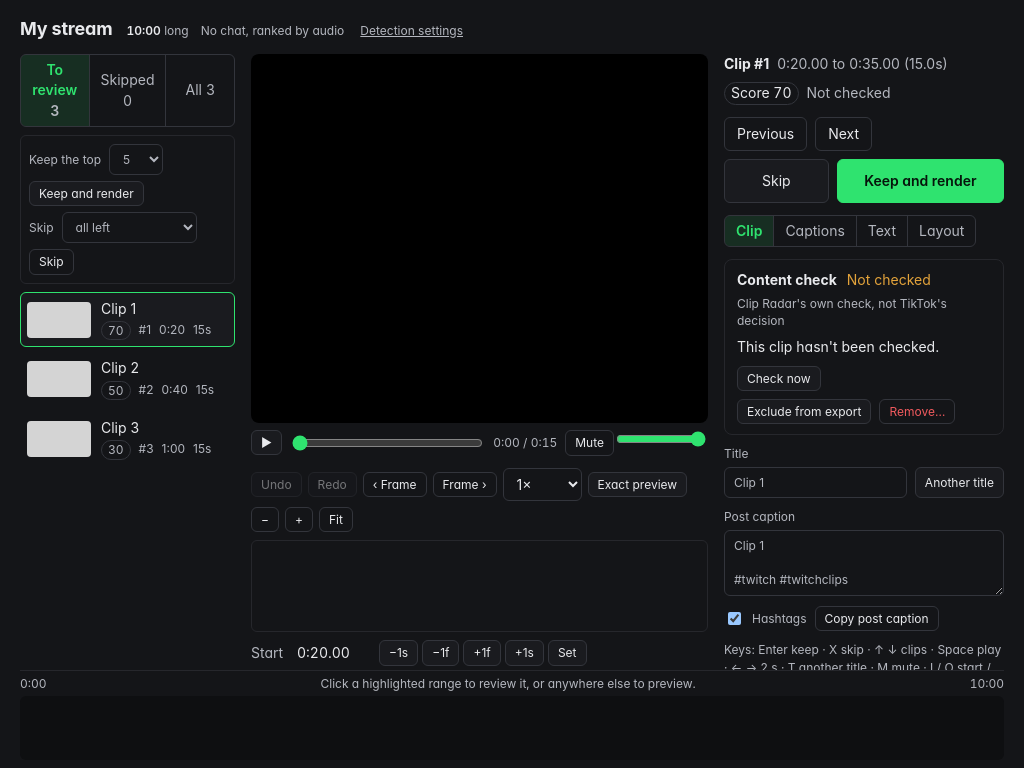
it: Review › re-ranking with other detection settings keeps what you did to clips still suggested
This screenshot has width=1024, height=768.
Replace the text in the field with test id "rv-title-input" with "Mine": (815, 482) top-left (724, 467), bottom-right (907, 498)
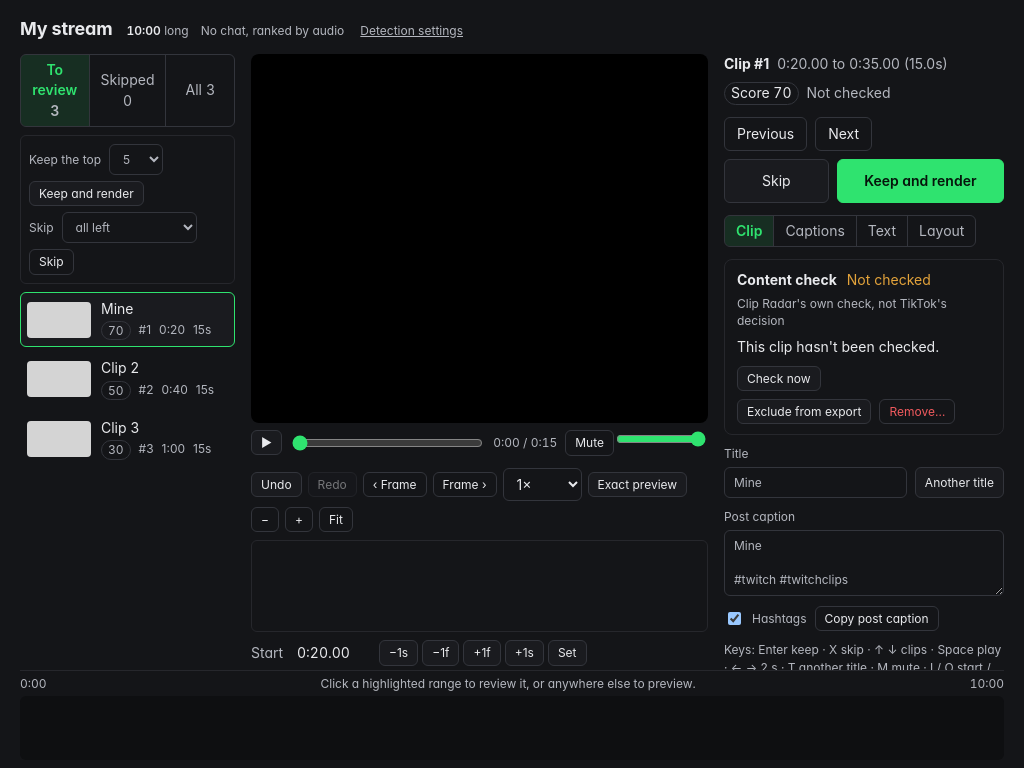
Click the button with test id "rv-detect-open": (412, 31) top-left (356, 22), bottom-right (467, 39)
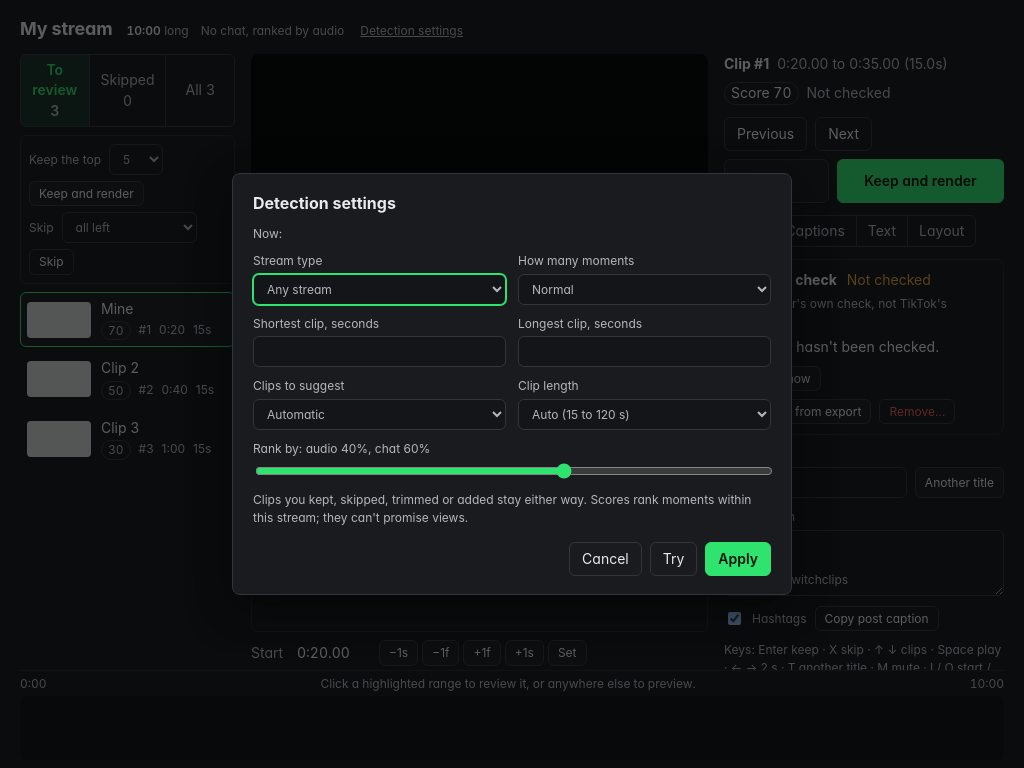
Click the button with test id "rv-det-try": (674, 559) top-left (650, 542), bottom-right (697, 576)
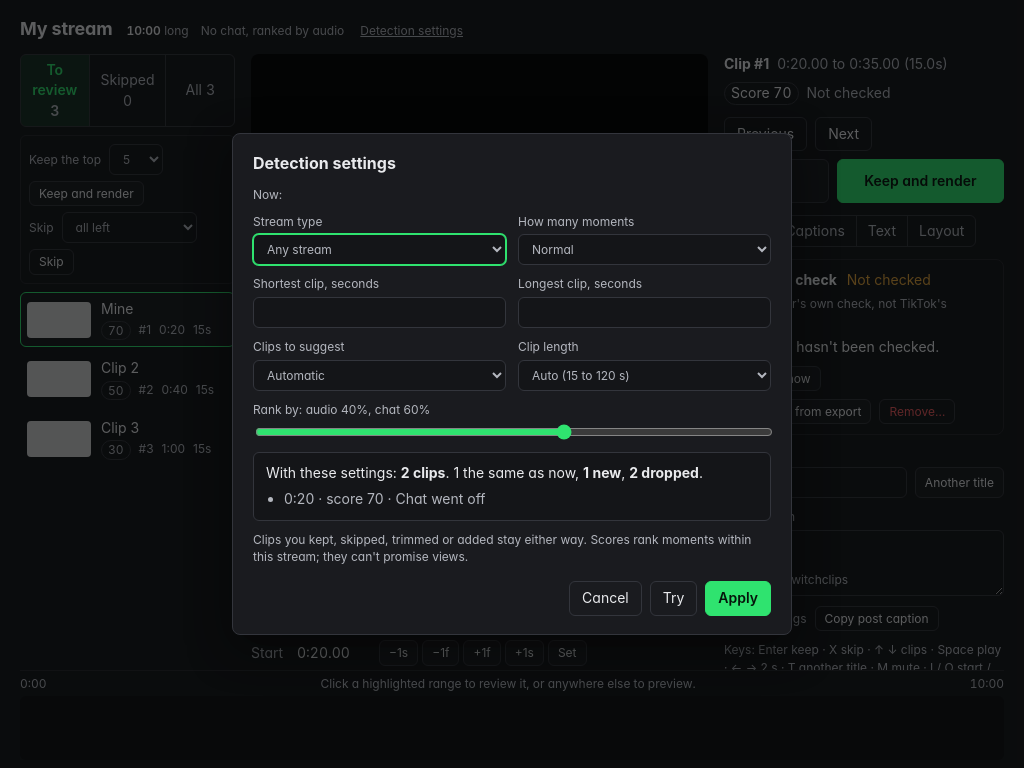
Expected: the element with test id "rv-det-cmp" shows "2 clips. 1 the same as now, 1 new, 2 dropped", top-left (253, 452), bottom-right (771, 520)
Click the button with test id "rv-det-apply": (738, 598) top-left (705, 581), bottom-right (771, 616)
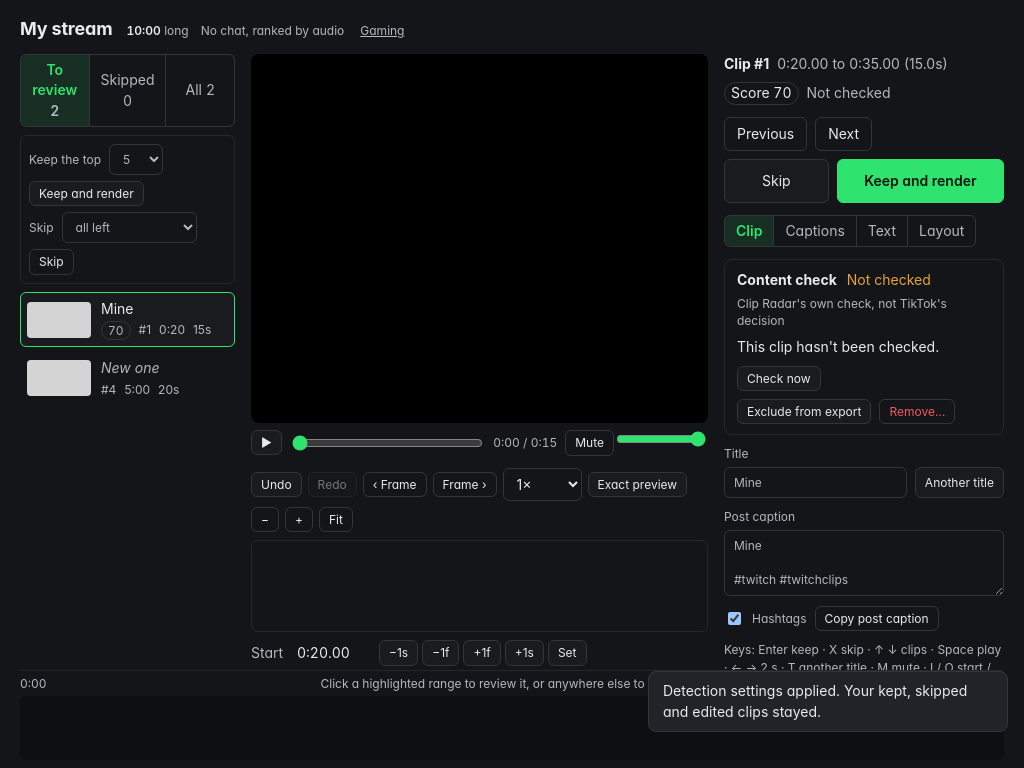
Expected: the dialog with test id "rv-detect" is gone
